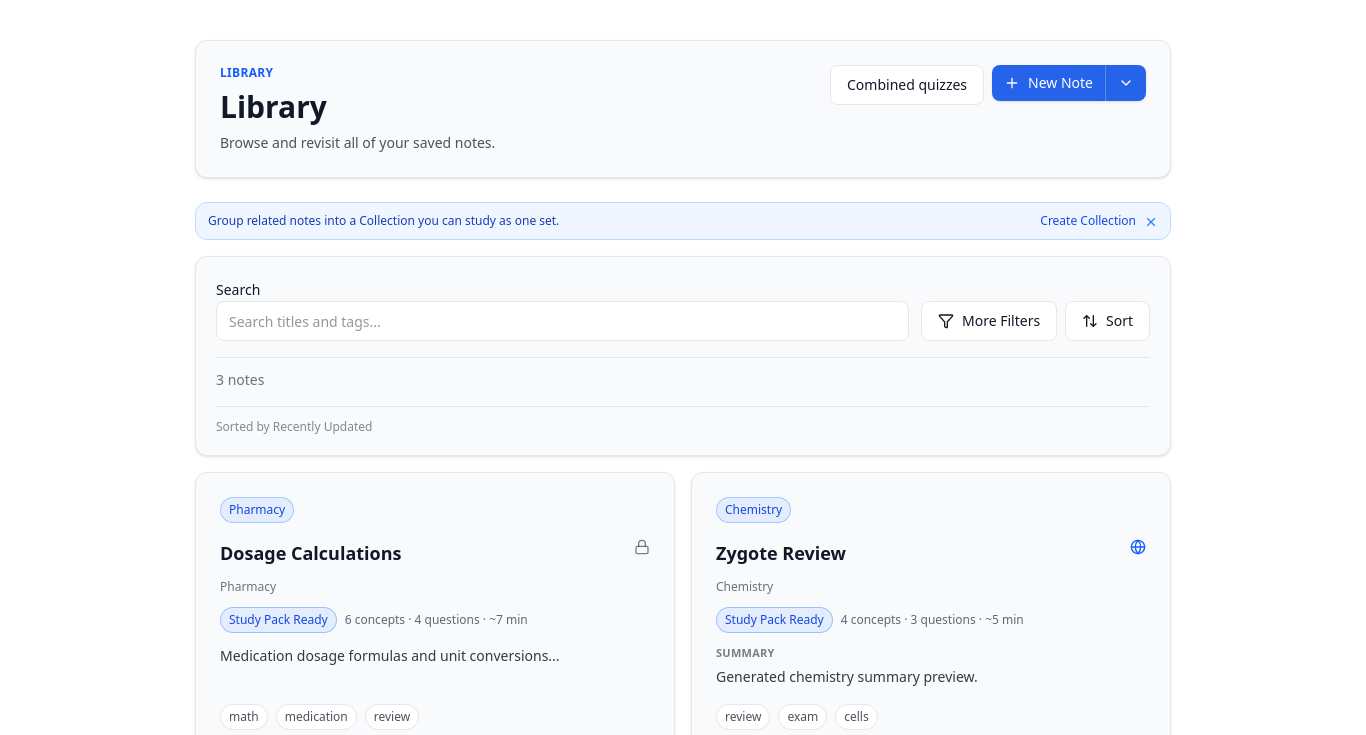
Library page › shows a clear button in the search field and resets the query when clicked
This screenshot has width=1366, height=735.
Type "cell" into the search field labelled "Search" at (562, 321), box x1=216 y1=301 x2=909 y2=341
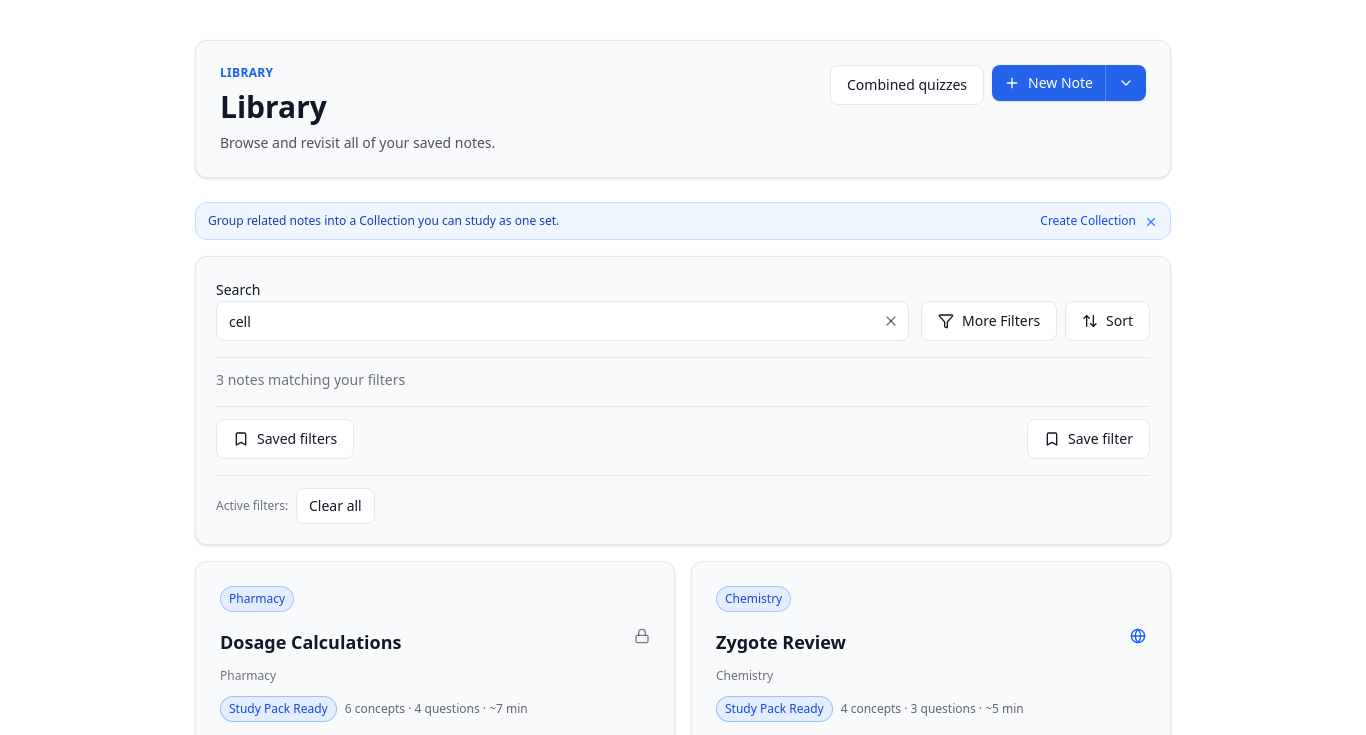
Click the button named "Clear search" at (891, 321), box x1=873 y1=301 x2=909 y2=341
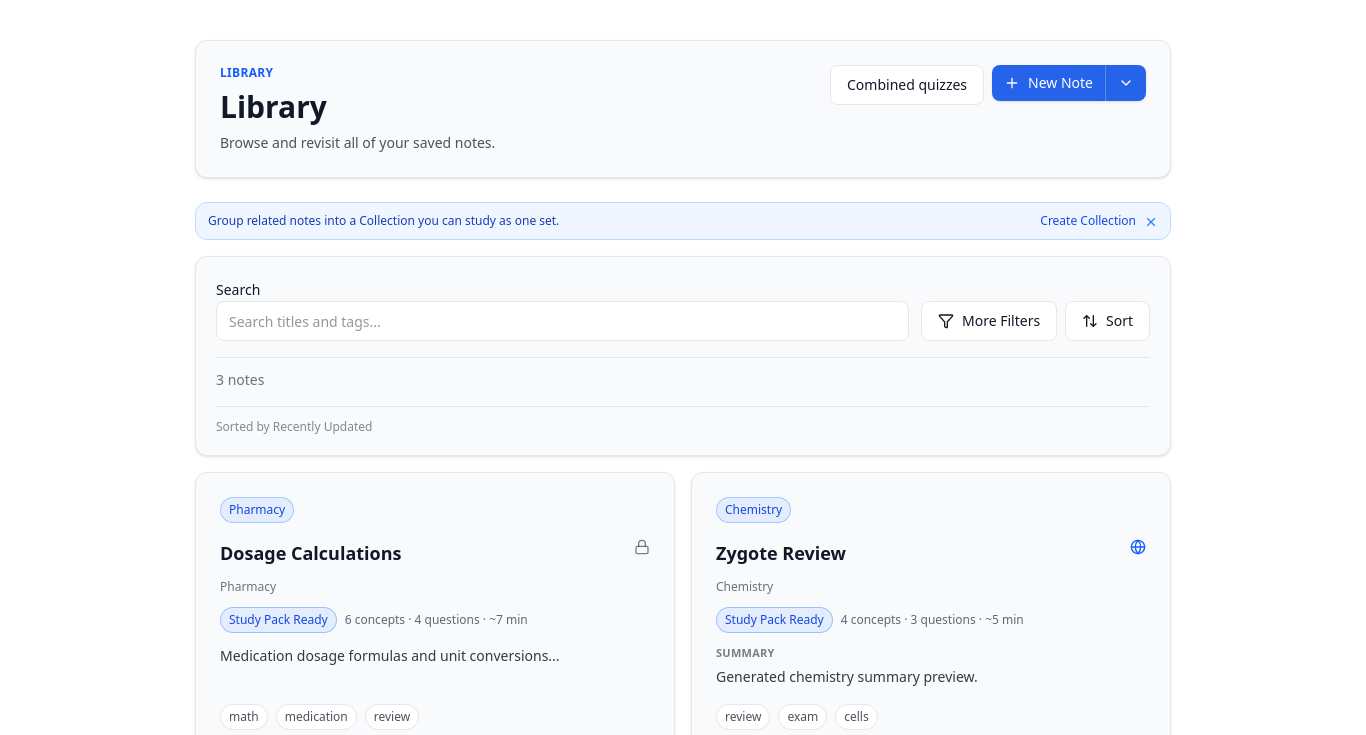
expect the search field labelled "Search" is empty: met, box x1=216 y1=301 x2=909 y2=341
